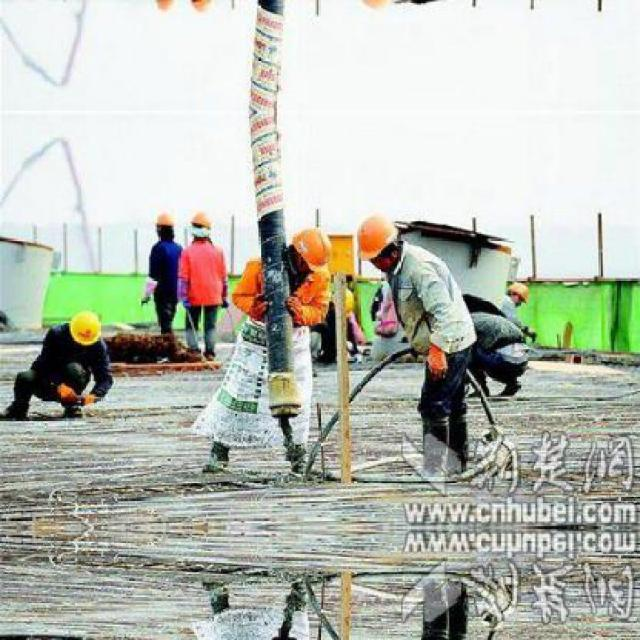helmet: (352, 206, 405, 274), (287, 221, 331, 277), (66, 306, 103, 346), (352, 0, 406, 17), (187, 207, 210, 242), (154, 208, 175, 242), (505, 280, 529, 308), (186, 0, 210, 15), (154, 0, 177, 15)
